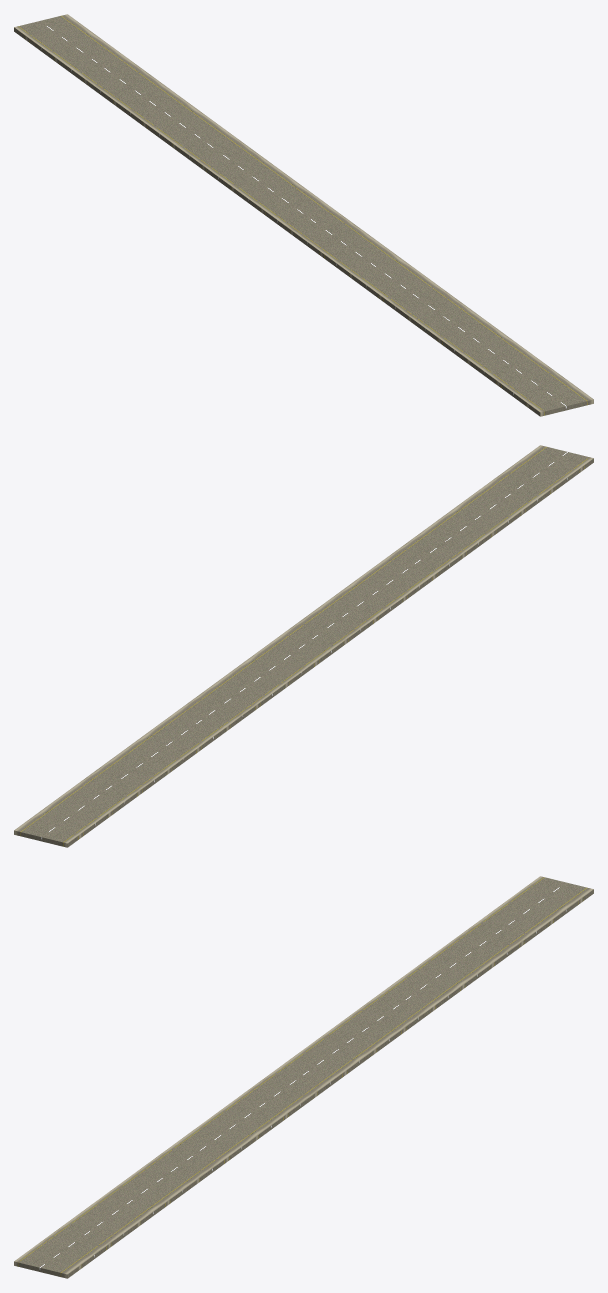
File: DRoad1.glb
3 renders of one model, top to bottom at view 1: azimuth 30°, elevation 25°; view 2: azimuth 150°, elevation 25°; view 3: azimuth 330°, elevation 25°, orthographic.
Parts seen in each view (by area): view 1: DRoad1; view 2: DRoad1; view 3: DRoad1.
Boxes of the visible parts, bbox=[...] form: DRoad1: bbox=[14, 14, 593, 416]; DRoad1: bbox=[14, 445, 593, 847]; DRoad1: bbox=[14, 876, 593, 1278].
Size of the model in its own units: 578 by 44 by 9824.
1 material, 1 textured.
